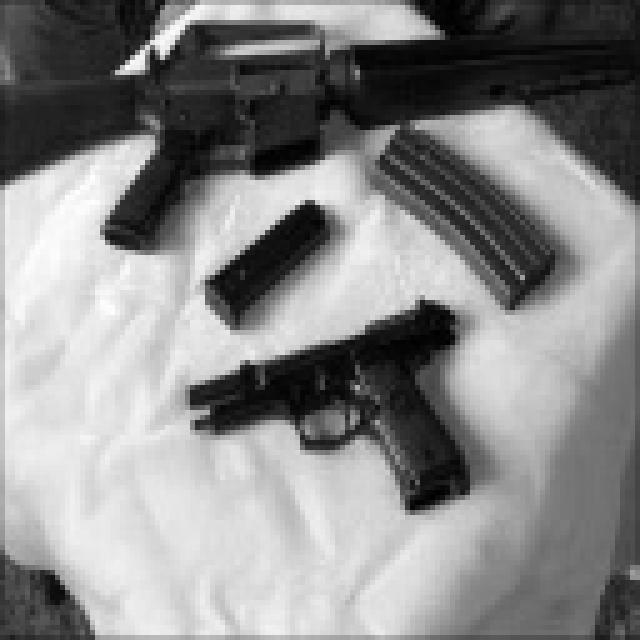Rifle: (0, 0, 630, 328), (159, 248, 525, 546)
